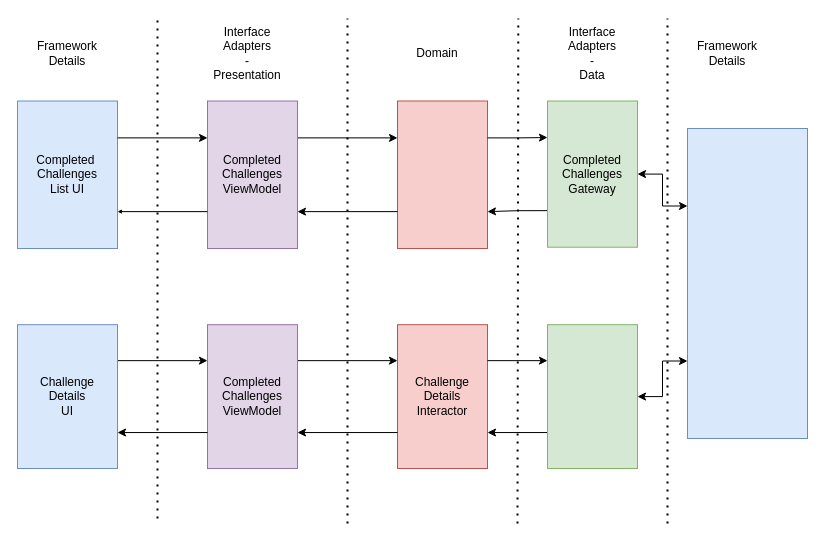
Some shapes in this 825 by 542 pixel diagram are drawn without their labels. Each missing label, with the centre of its shape:
"Challenge Details Gateway" belongs at (592,396).
"Codewars API" belongs at (747,283).
"Completed Challenges Interactor" belongs at (442,174).
